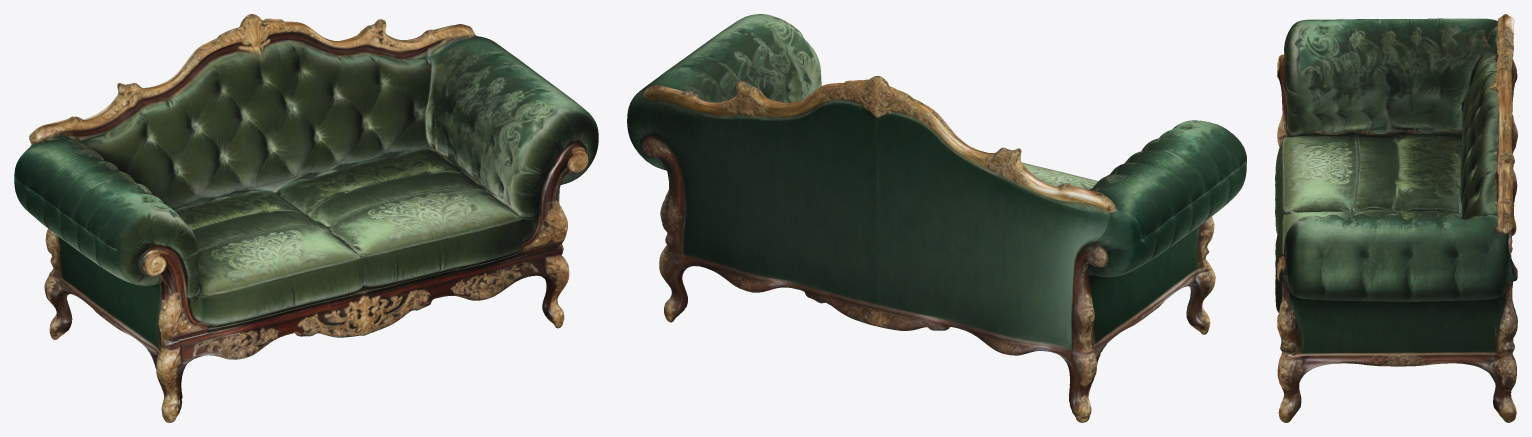
The model's file is sofa-xanh1.glb.
The picture shows the model from 3 angles, left to right: view 1: azimuth 30°, elevation 25°; view 2: azimuth 150°, elevation 25°; view 3: azimuth 270°, elevation 25°; orthographic projection. The views are drawn at different scales.
Parts seen in each view (by area): view 1: Mesh_0_Material_0_0; view 2: Mesh_0_Material_0_0; view 3: Mesh_0_Material_0_0.
Boxes of the visible parts, x1,y1,x2,y2 form: Mesh_0_Material_0_0: (14,14,598,422); Mesh_0_Material_0_0: (627,14,1246,422); Mesh_0_Material_0_0: (1275,14,1517,422).
Size of the model in its own units: 2 by 1.09 by 0.8776.
1 material, 1 textured.
